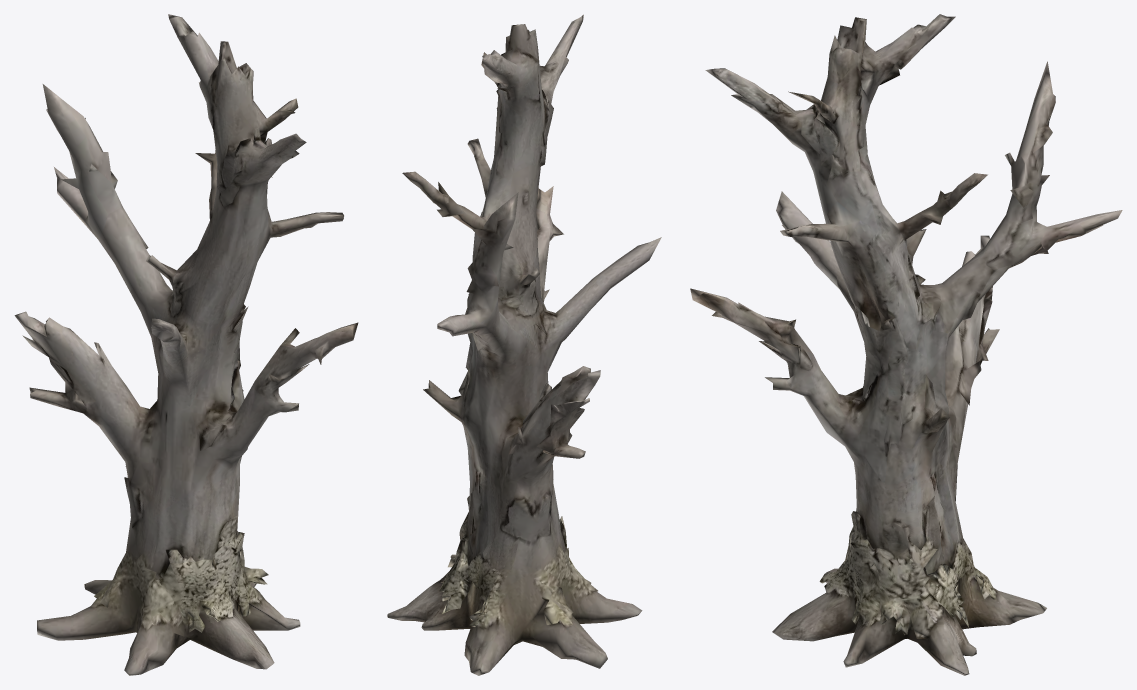
Rendered from ruin-deadtree.glb.
3 renders of one model, left to right at view 1: azimuth 30°, elevation 25°; view 2: azimuth 150°, elevation 25°; view 3: azimuth 270°, elevation 25°, orthographic. The views are drawn at different scales.
Parts seen in each view (by area): view 1: tripo_node_2bc135bb-e09f-40ef-94fb-976a23000d27; view 2: tripo_node_2bc135bb-e09f-40ef-94fb-976a23000d27; view 3: tripo_node_2bc135bb-e09f-40ef-94fb-976a23000d27.
Boxes of the visible parts, box(x1,y1,x2,y2) form: tripo_node_2bc135bb-e09f-40ef-94fb-976a23000d27: box(14, 14, 358, 675); tripo_node_2bc135bb-e09f-40ef-94fb-976a23000d27: box(387, 14, 661, 675); tripo_node_2bc135bb-e09f-40ef-94fb-976a23000d27: box(690, 14, 1122, 675).
Size of the model in its own units: 0.4078 by 0.9942 by 0.6341.
Materials: 1 (1 with a texture image).
